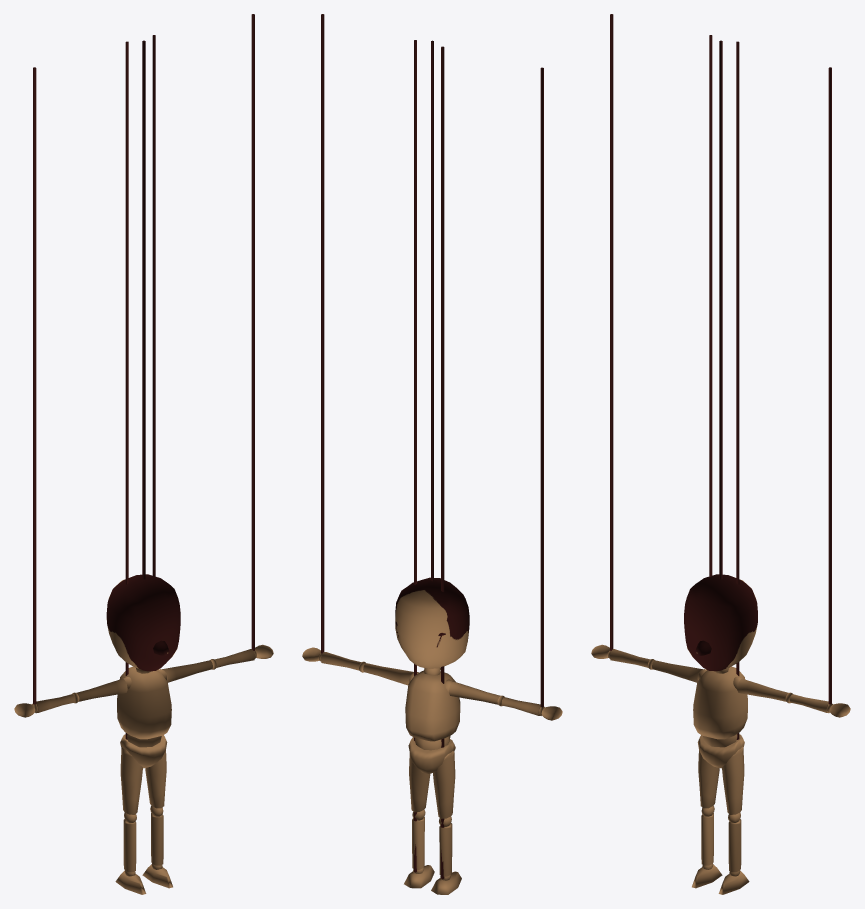
The model's file is marionette_Fall_Luup.fbx.
The picture shows the model from 3 angles, left to right: view 1: azimuth 30°, elevation 25°; view 2: azimuth 150°, elevation 25°; view 3: azimuth 330°, elevation 25°; orthographic projection.
Parts seen in each view (by area): view 1: marionette; view 2: marionette; view 3: marionette.
Part boxes in pixels (box(x1,y1,x2,y2)): marionette: box(14, 14, 273, 894); marionette: box(302, 14, 562, 894); marionette: box(591, 14, 850, 894).
Bounding box in the file's own units: 6.09 × 19.16 × 1.81.
